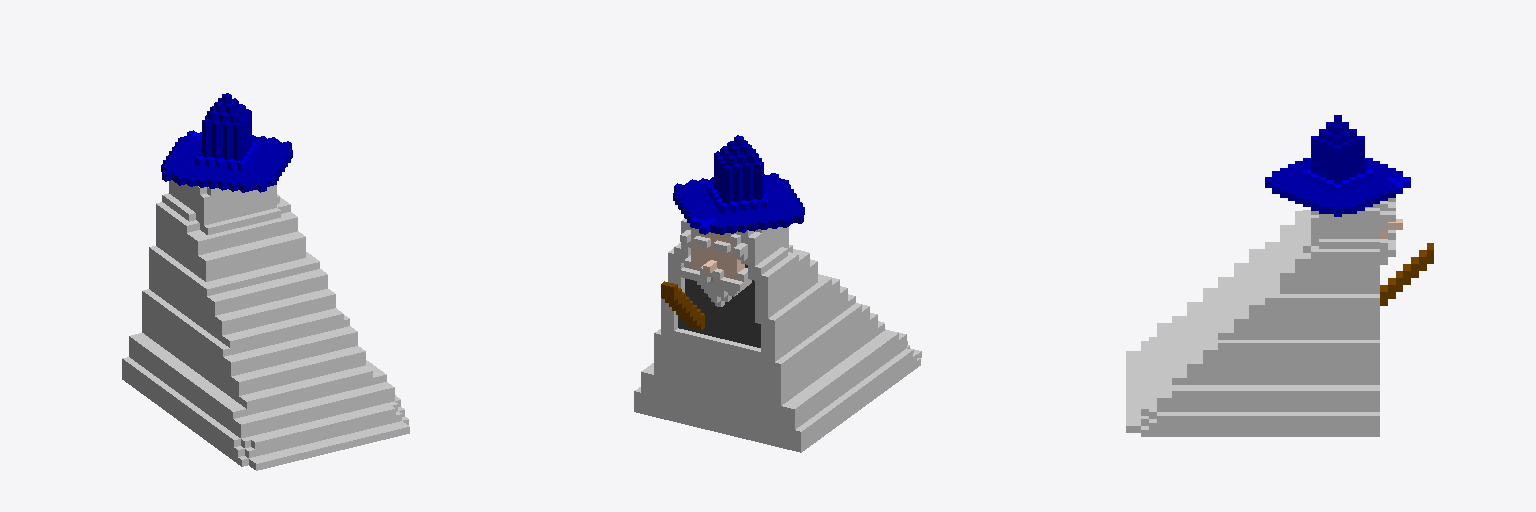
3 renders of one model, left to right at view 1: azimuth 30°, elevation 25°; view 2: azimuth 150°, elevation 25°; view 3: azimuth 270°, elevation 25°, orthographic.
Visible parts, largest first — view 1: object 1; view 2: object 1; view 3: object 1.
Part boxes in pixels (x1,y1,x2,y2): object 1: (122, 93, 409, 470); object 1: (634, 135, 921, 452); object 1: (1126, 115, 1433, 436).
Bounding box in the file's own units: 2.5 × 4 × 4.
Materials: 1 (1 with a texture image).